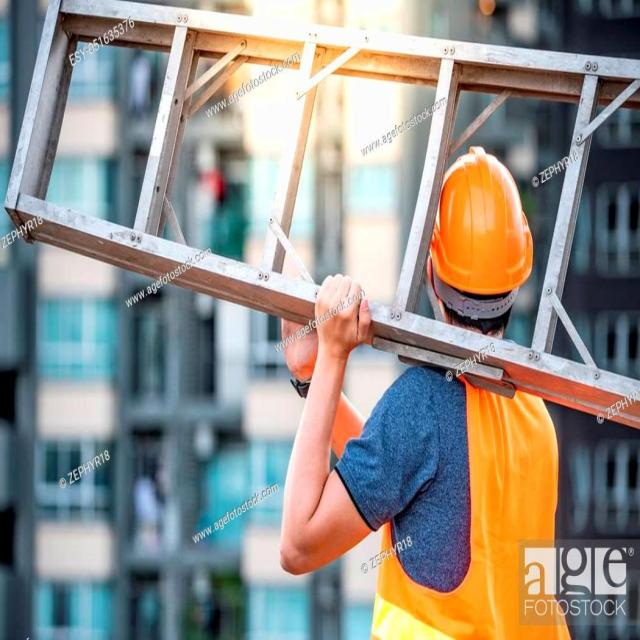helmet: (399, 144, 544, 344)
vest: (344, 340, 566, 640)
